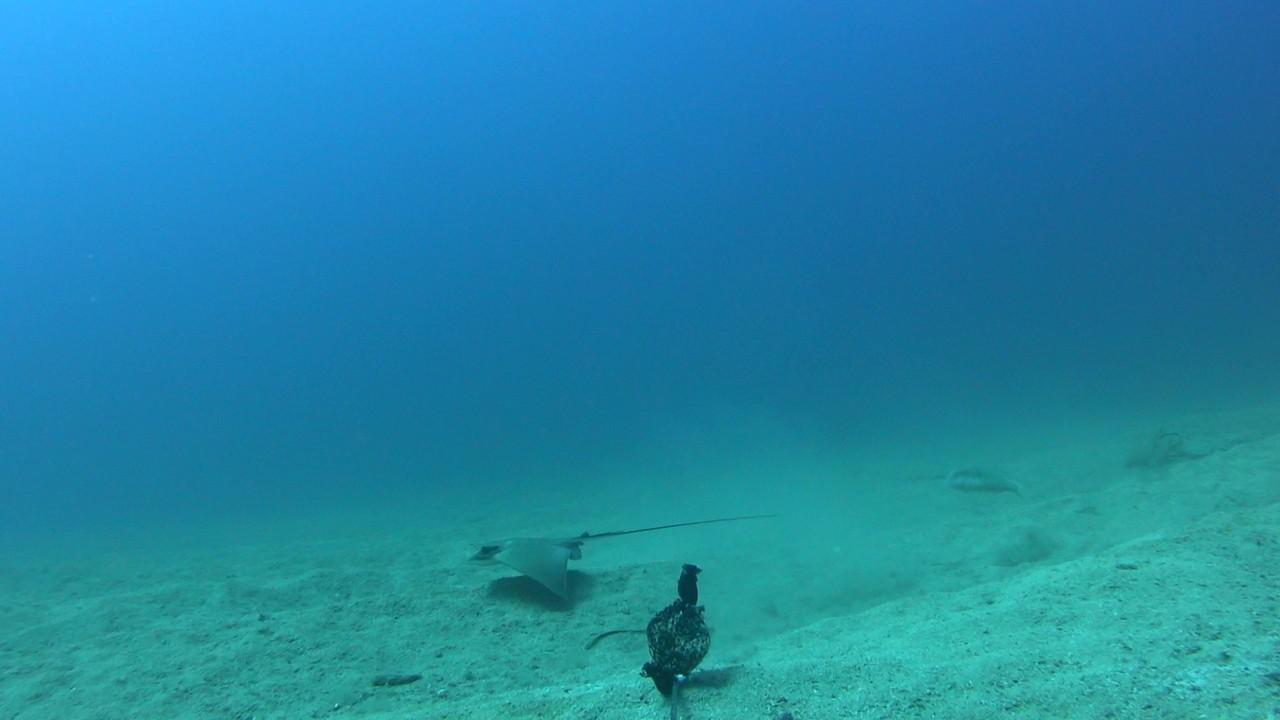myliobatis: (464, 507, 810, 592)
raor: (946, 460, 1025, 497)
